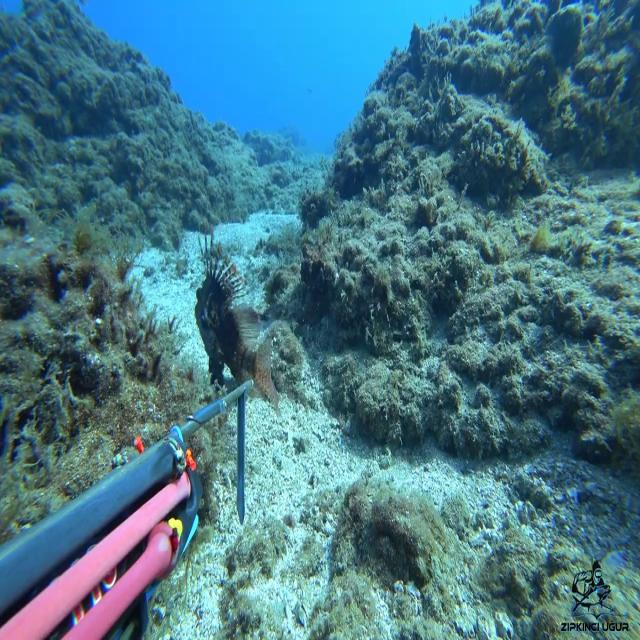Aslan Baligi: (181, 223, 293, 414)
